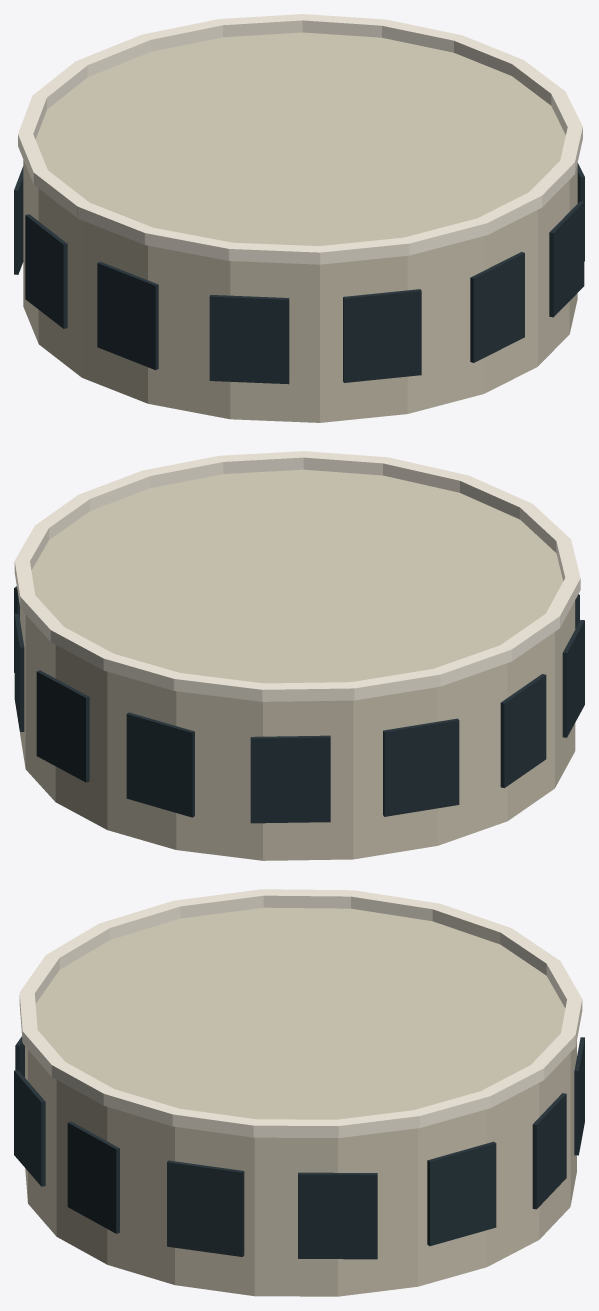
File: vatican-post.glb
The picture shows the model from 3 angles, top to bottom: view 1: azimuth 30°, elevation 25°; view 2: azimuth 150°, elevation 25°; view 3: azimuth 270°, elevation 25°; orthographic projection.
Visible parts, largest first — view 1: post-office-pavilion, facade-windows, flat-roof-cornice; view 2: post-office-pavilion, facade-windows, flat-roof-cornice; view 3: post-office-pavilion, facade-windows, flat-roof-cornice.
Boxes of the visible parts, box(x1,y1,x2,y2) form: post-office-pavilion: box(23, 32, 577, 422); facade-windows: box(14, 163, 584, 384); flat-roof-cornice: box(18, 14, 582, 264); post-office-pavilion: box(20, 469, 575, 860); facade-windows: box(14, 586, 584, 823); flat-roof-cornice: box(14, 451, 580, 701); post-office-pavilion: box(25, 907, 576, 1296); facade-windows: box(14, 1036, 584, 1259); flat-roof-cornice: box(19, 889, 582, 1138).
Size of the model in its own units: 15.75 by 5.34 by 16.
